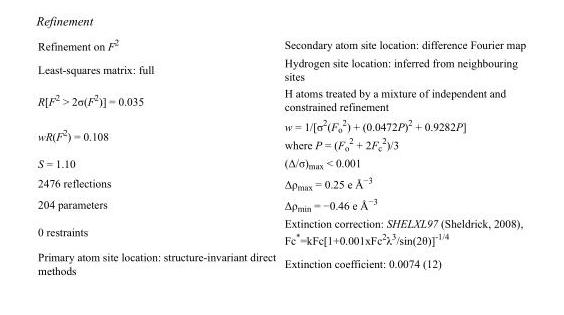table: (37, 36, 525, 276)
table column: (279, 36, 525, 276), (37, 36, 279, 276)
table row: (37, 114, 525, 154), (37, 214, 525, 248), (37, 54, 525, 84), (37, 84, 525, 114), (37, 248, 525, 276), (37, 172, 525, 193), (37, 193, 525, 214), (37, 36, 525, 54), (37, 154, 525, 172)
